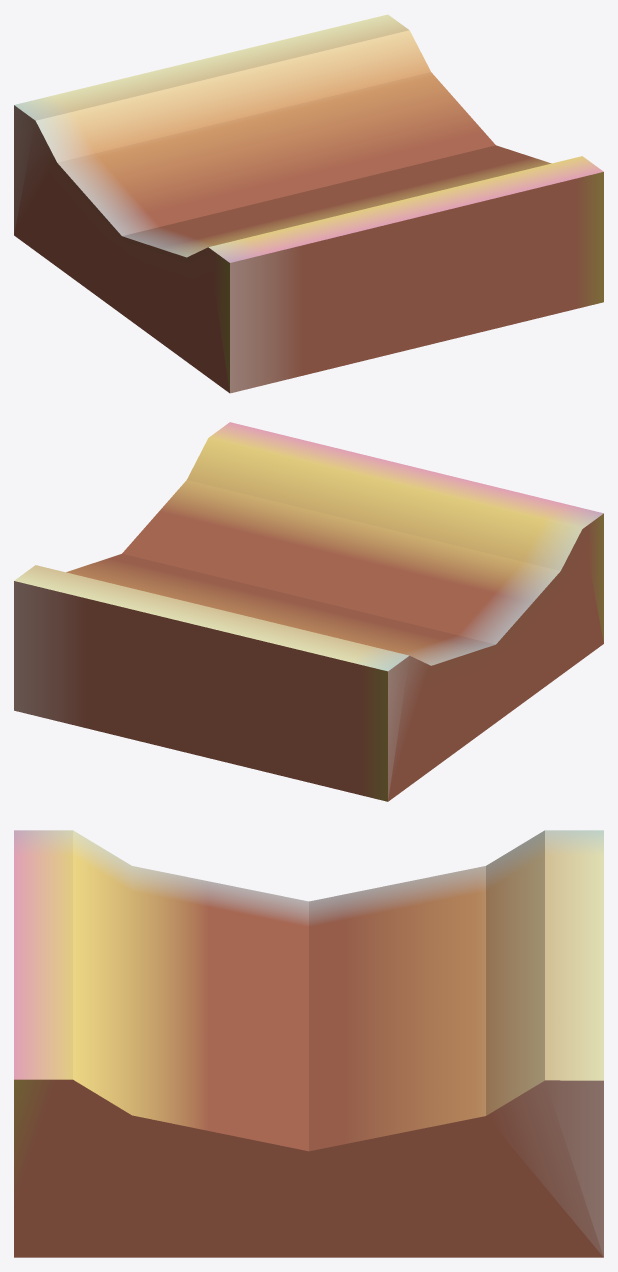
Rendered from River.Horizontal.A.Desert.glb.
The picture shows the model from 3 angles, top to bottom: view 1: azimuth 30°, elevation 25°; view 2: azimuth 150°, elevation 25°; view 3: azimuth 270°, elevation 25°; orthographic projection. The views are drawn at different scales.
Visible parts, largest first — view 1: River.Horizontal.A.Desert; view 2: River.Horizontal.A.Desert; view 3: River.Horizontal.A.Desert.
Boxes of the visible parts, bbox=[...] form: River.Horizontal.A.Desert: bbox=[14, 14, 603, 393]; River.Horizontal.A.Desert: bbox=[14, 422, 603, 801]; River.Horizontal.A.Desert: bbox=[14, 830, 603, 1257].
Bounding box in the file's own units: 3 × 1 × 3.
1 material, 1 textured.
